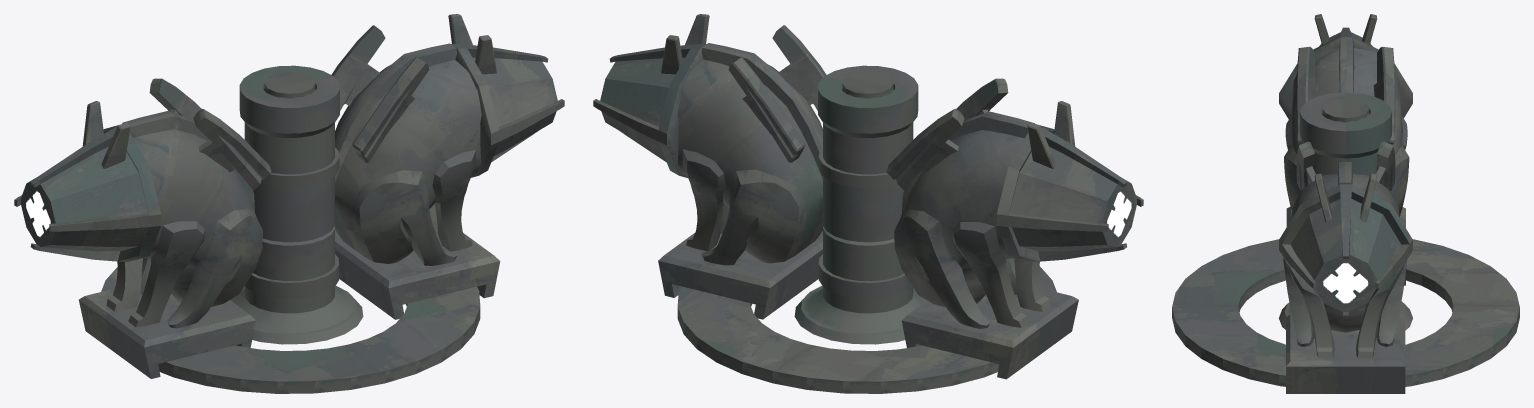
The model's file is LASER_ROTATOR.fbx.
The picture shows the model from 3 angles, left to right: view 1: azimuth 30°, elevation 25°; view 2: azimuth 150°, elevation 25°; view 3: azimuth 270°, elevation 25°; orthographic projection. The views are drawn at different scales.
Parts seen in each view (by area): view 1: MeshBaker_mesh_mesh; view 2: MeshBaker_mesh_mesh; view 3: MeshBaker_mesh_mesh.
Part boxes in pixels (x1,y1,x2,y2): MeshBaker_mesh_mesh: [14, 14, 564, 393]; MeshBaker_mesh_mesh: [593, 14, 1143, 393]; MeshBaker_mesh_mesh: [1172, 14, 1519, 393].
Bounding box in the file's own units: 654 × 298 × 420.
Materials: 2 (2 with a texture image).
